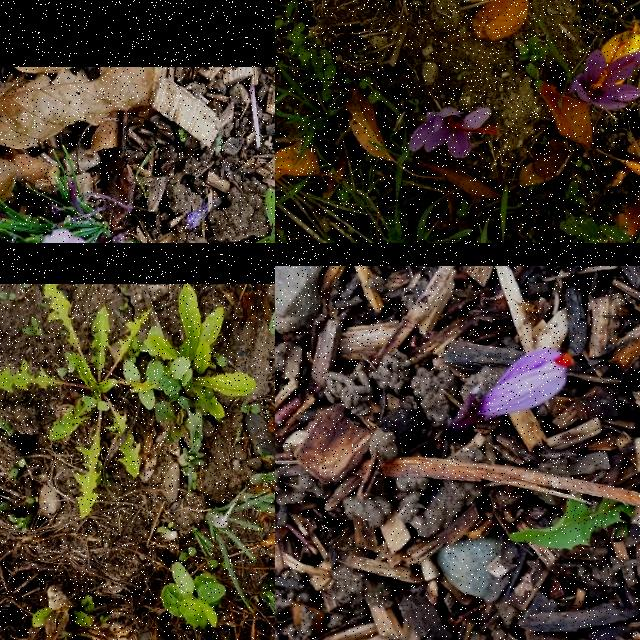flower: (474, 348, 576, 422), (574, 41, 640, 110), (409, 106, 493, 158), (39, 229, 92, 243)
